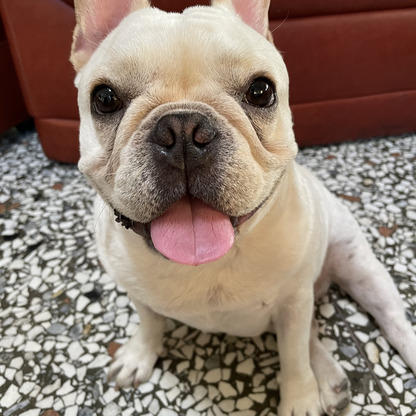bulldog: (64, 1, 414, 416)
